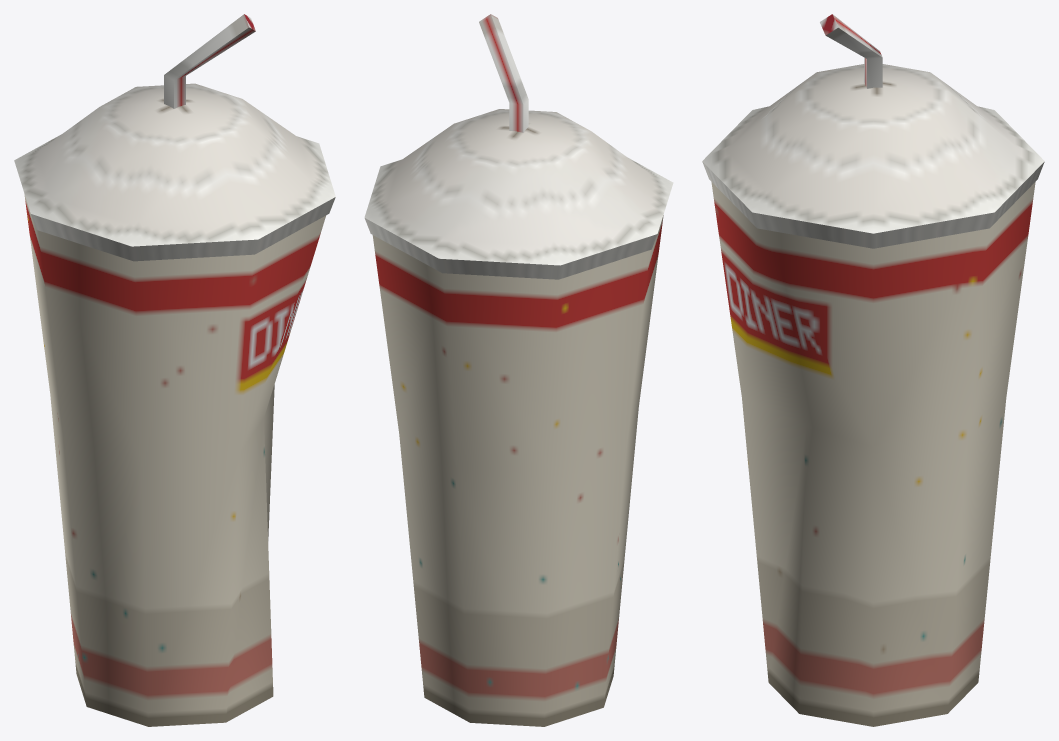
The model's file is SM_Motel_TakeoutCup.obj.
3 renders of one model, left to right at view 1: azimuth 30°, elevation 25°; view 2: azimuth 150°, elevation 25°; view 3: azimuth 270°, elevation 25°, orthographic. The views are drawn at different scales.
Parts seen in each view (by area): view 1: SM_Motel_TakeoutCup; view 2: SM_Motel_TakeoutCup; view 3: SM_Motel_TakeoutCup.
Boxes of the visible parts, box(x1,y1,x2,y2) form: SM_Motel_TakeoutCup: box(14, 14, 335, 726); SM_Motel_TakeoutCup: box(364, 14, 673, 726); SM_Motel_TakeoutCup: box(702, 14, 1044, 726).
Size of the model in its own units: 0.098 by 0.2188 by 0.098.
1 material, 1 textured.
